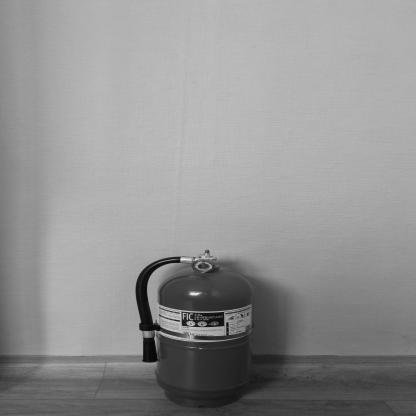FE: (134, 254, 255, 407)
